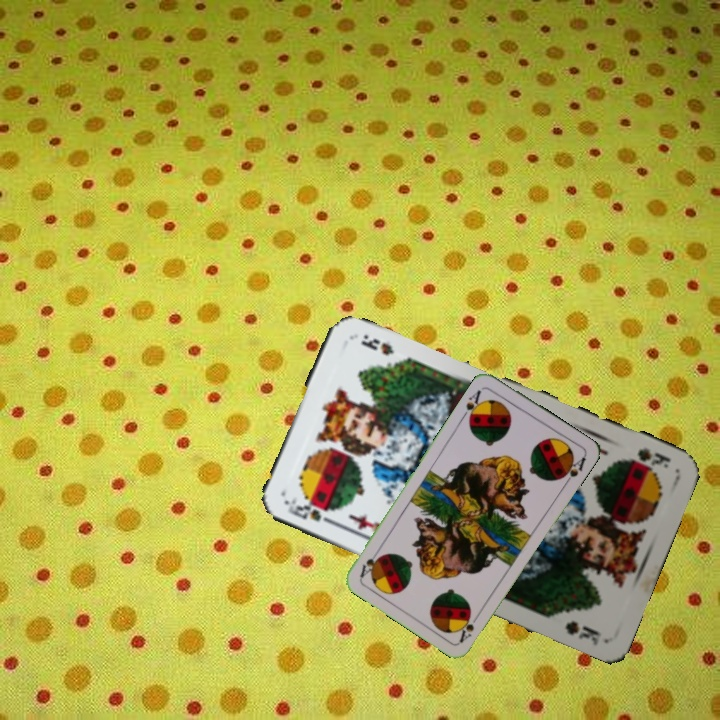SA: (458, 386, 487, 424), (455, 609, 483, 645)
SK: (283, 497, 339, 529), (625, 443, 674, 471)
